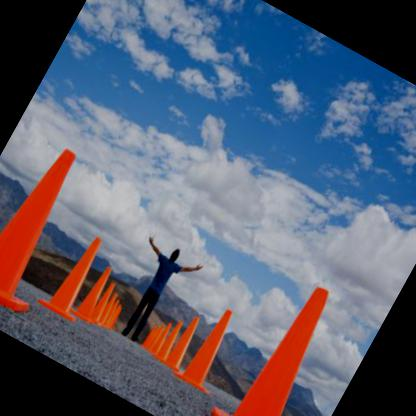cone: (205, 270, 369, 415), (0, 126, 105, 318), (171, 299, 250, 395), (36, 226, 115, 320), (68, 258, 118, 322), (160, 311, 208, 373), (87, 277, 119, 323)
